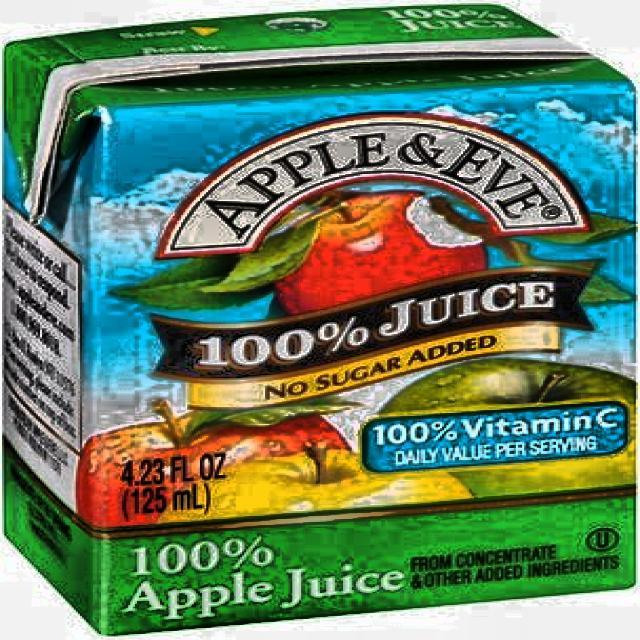cardboard: (0, 0, 638, 635)
